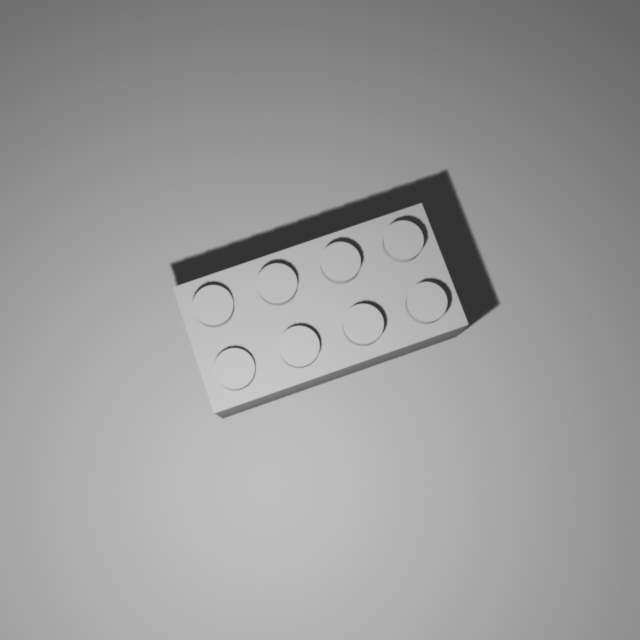lego_2x4: (170, 199, 471, 419)
